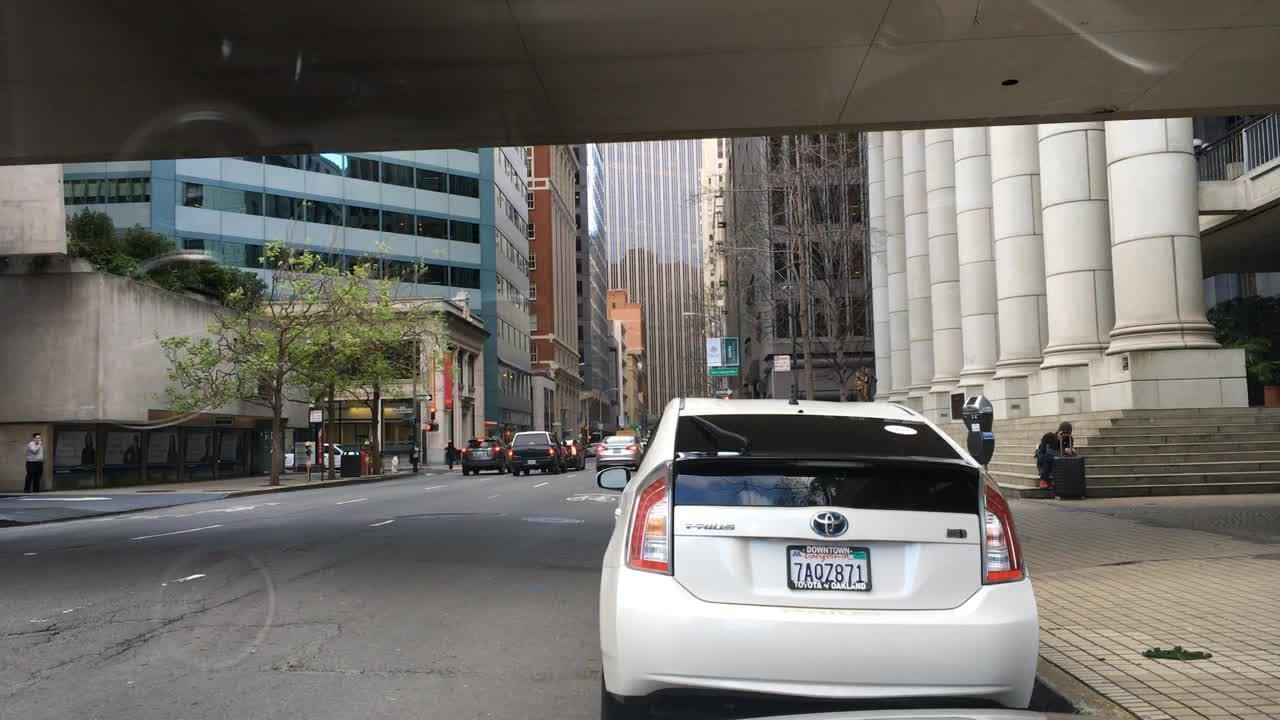Toyota: (803, 503, 856, 538)
